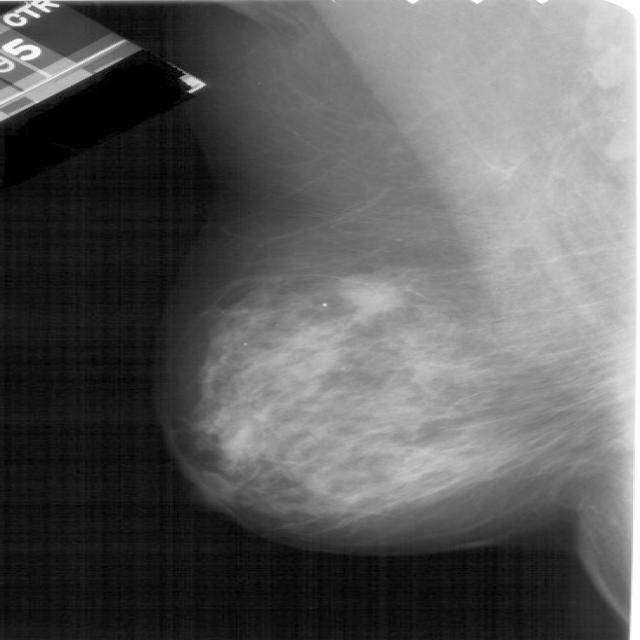tumour: (335, 272, 404, 314)
